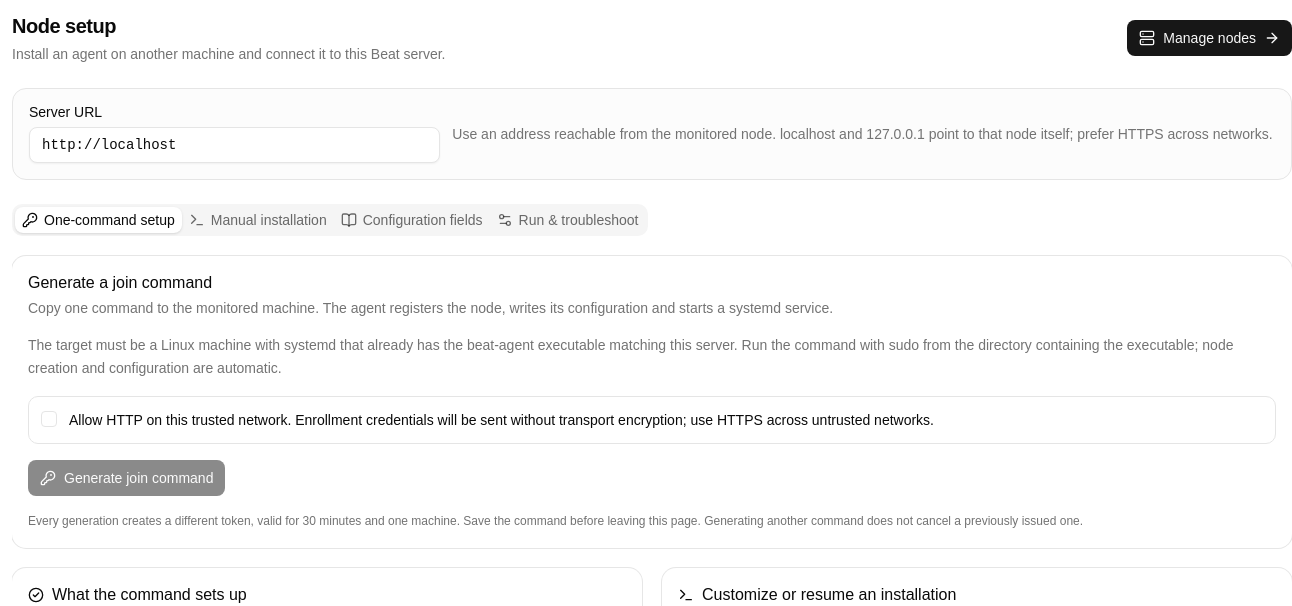
Scenario: single-command agent enrollment › shows server and unexpected errors and supports retry
The image size is (1292, 606).
Step 1. Replace the text in the field labelled "Server URL" with "https://beat.example.com" → coordinates (235, 145), box [29,127,440,163]
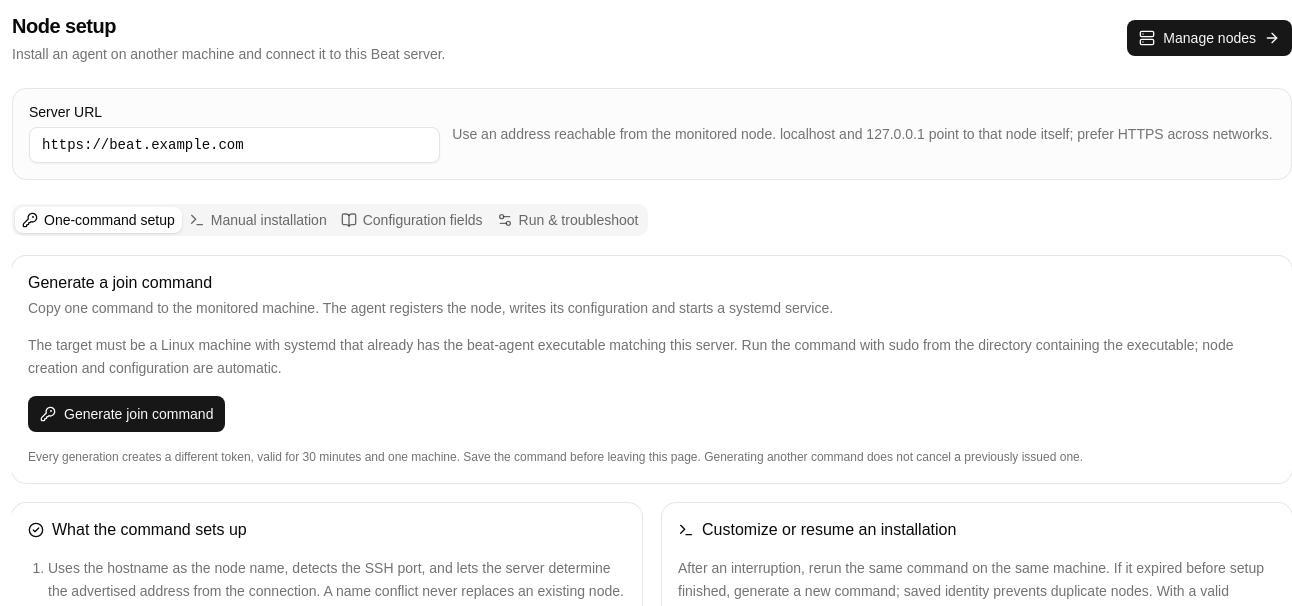
Step 2. Click the button "Generate join command" → coordinates (127, 414), box [28,396,225,432]
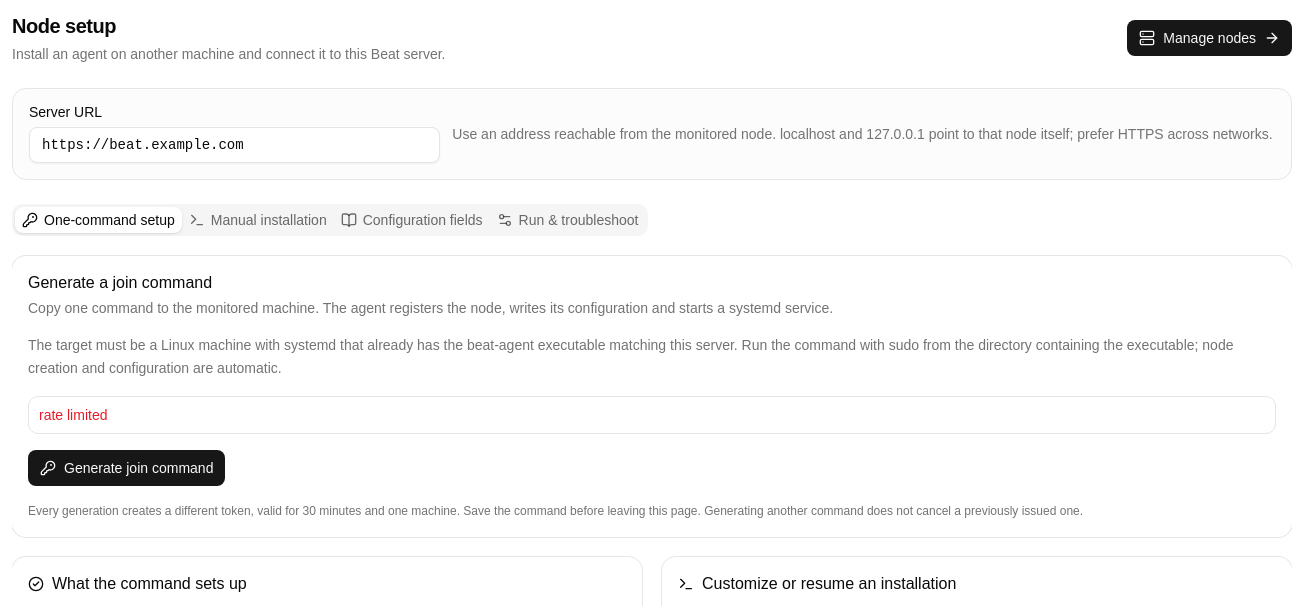
Expected: the text "rate limited" is shown, [39,406,108,422]
Step 3. Click the button "Generate join command" → coordinates (127, 468), box [28,450,225,486]
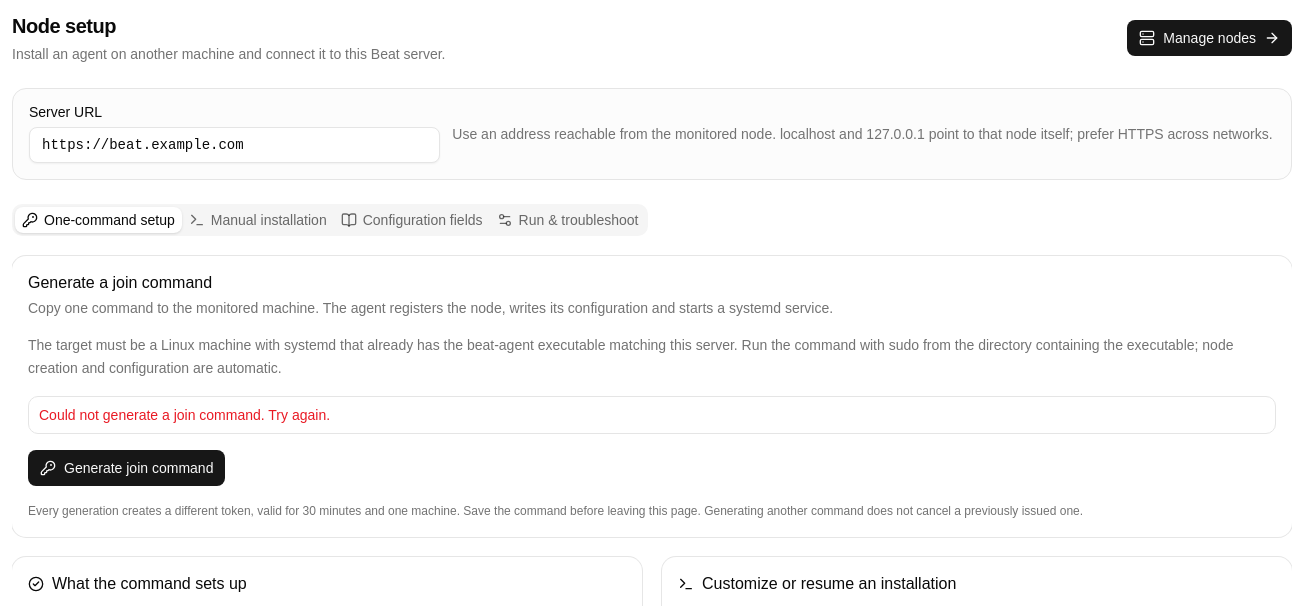
Expected: the text "Could not generate a join command. Try again." is shown, [39,406,330,422]
Step 4. Click the button "Generate join command" → coordinates (127, 468), box [28,450,225,486]
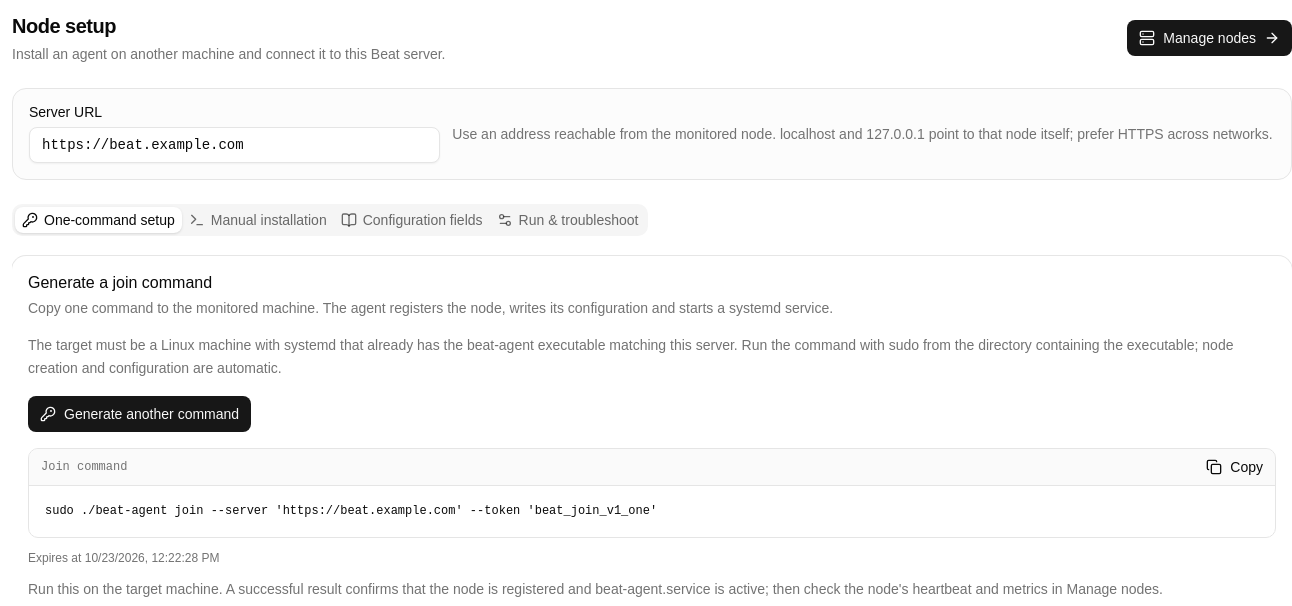
Expected: the element named "Join command" is shown, [45,504,657,518]
